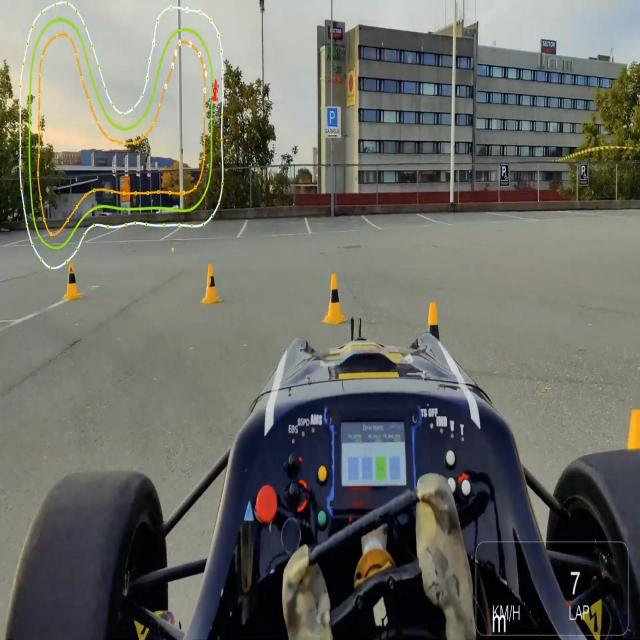yellow_cone: (190, 250, 226, 310), (414, 297, 448, 357), (318, 268, 349, 326), (59, 258, 82, 303)
